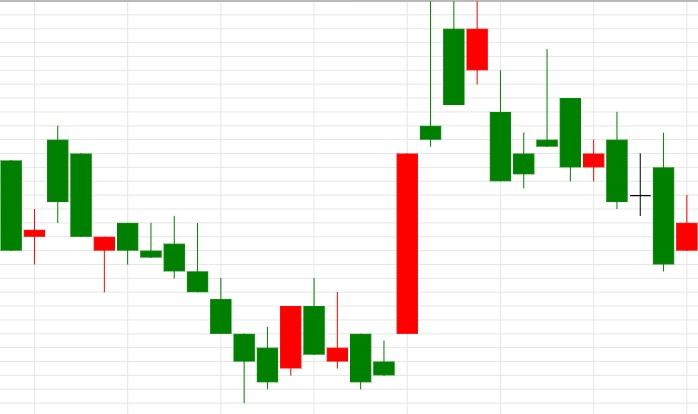hammer_rise: (117, 216, 255, 404)
shooting_star_fall: (350, 1, 441, 389)
